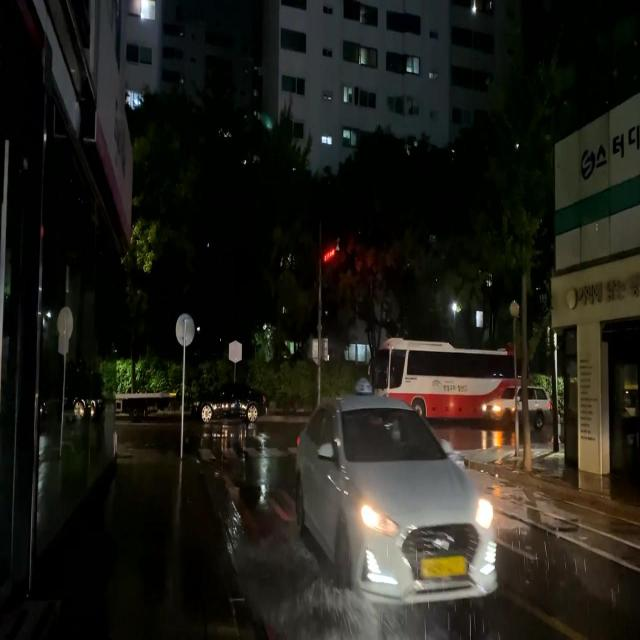Car: (190, 379, 265, 425)
